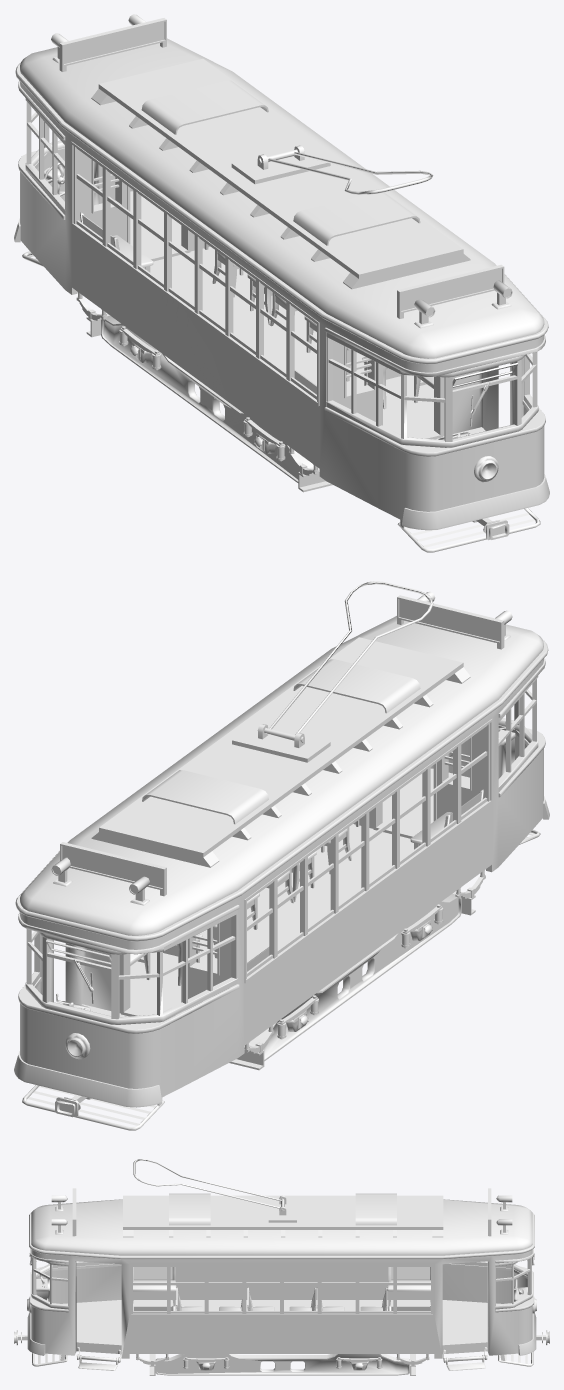
The picture shows the model from 3 angles, top to bottom: view 1: azimuth 30°, elevation 25°; view 2: azimuth 150°, elevation 25°; view 3: azimuth 270°, elevation 25°; orthographic projection. The views are drawn at different scales.
Bounding box in the file's own units: 2.53 × 4.06 × 10.4.
1 material, 1 textured.
